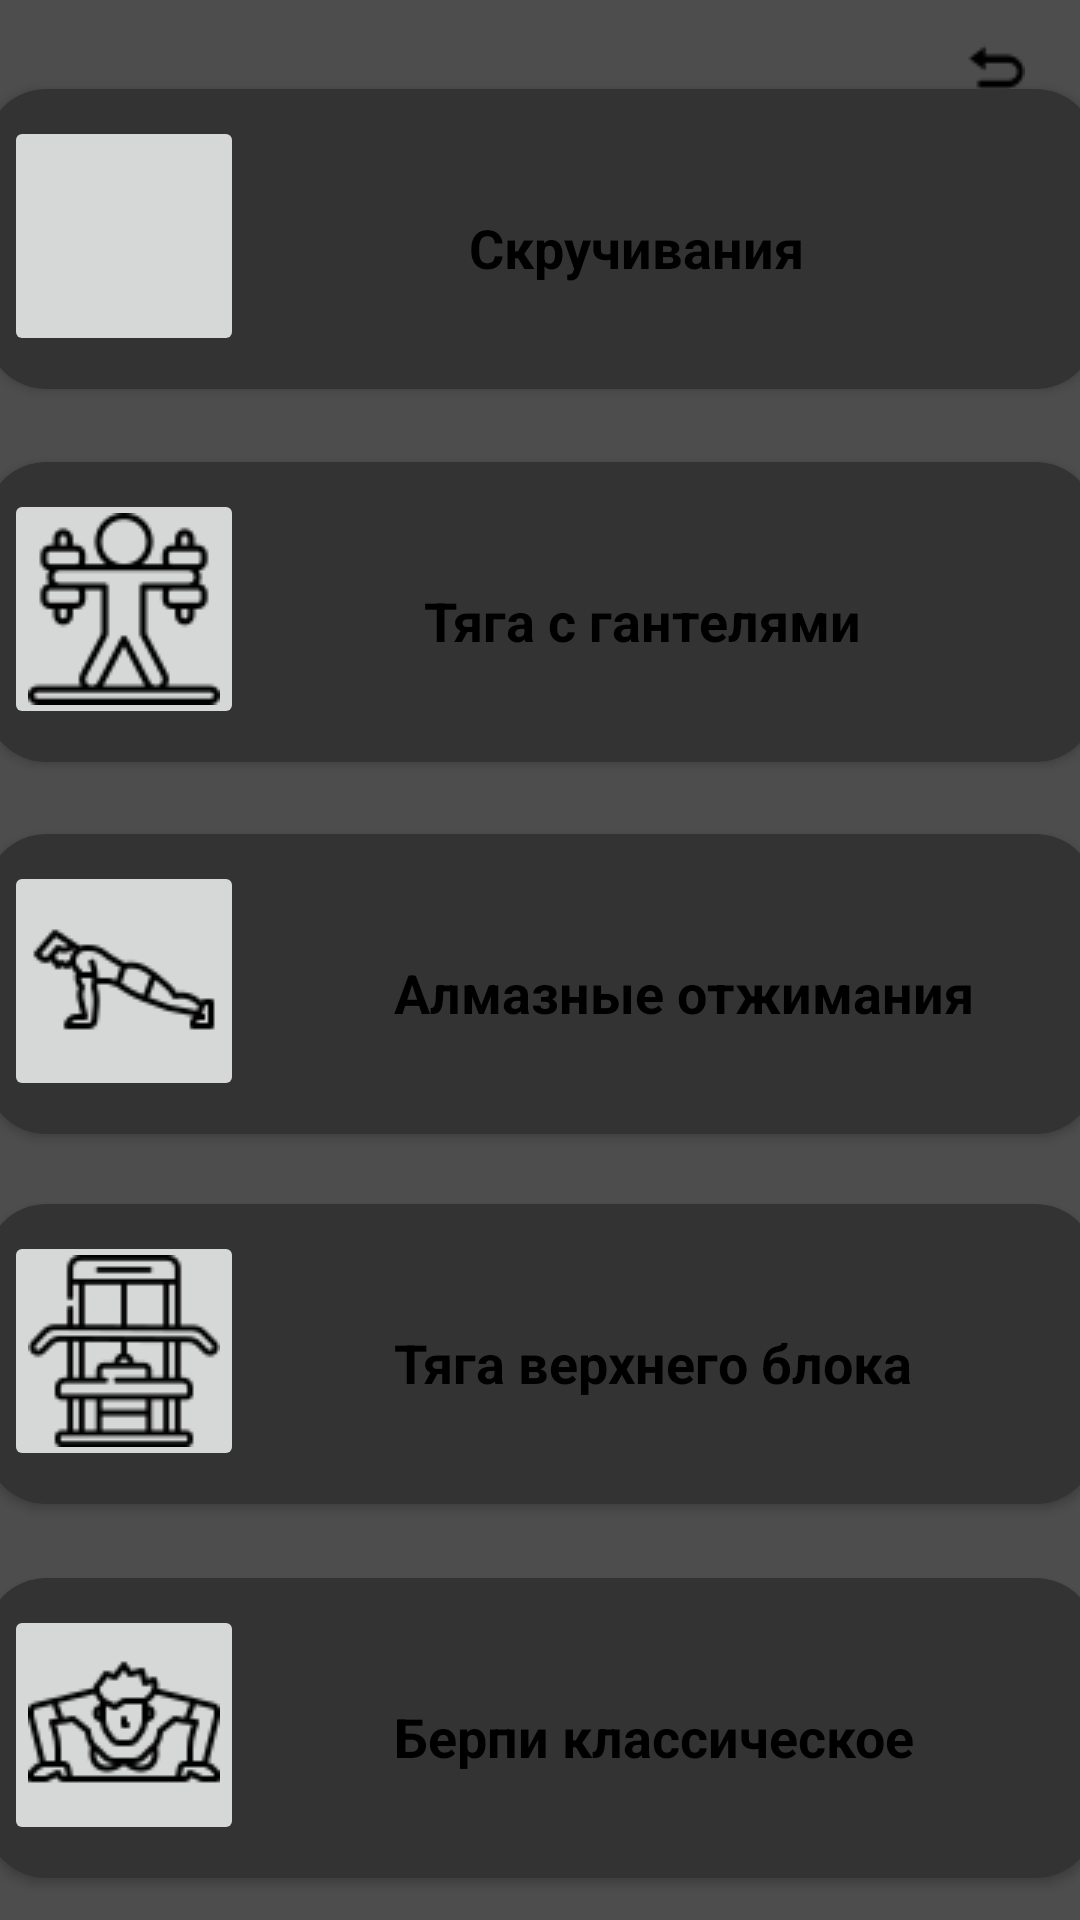

Icons on this 1080*1920 Android screen, each with its box as (x1, y1, x2, y2):
berpi: (16, 1623, 232, 1827)
tyaga bloka: (16, 1249, 232, 1453)
tyaga gantelyami: (16, 507, 232, 711)
